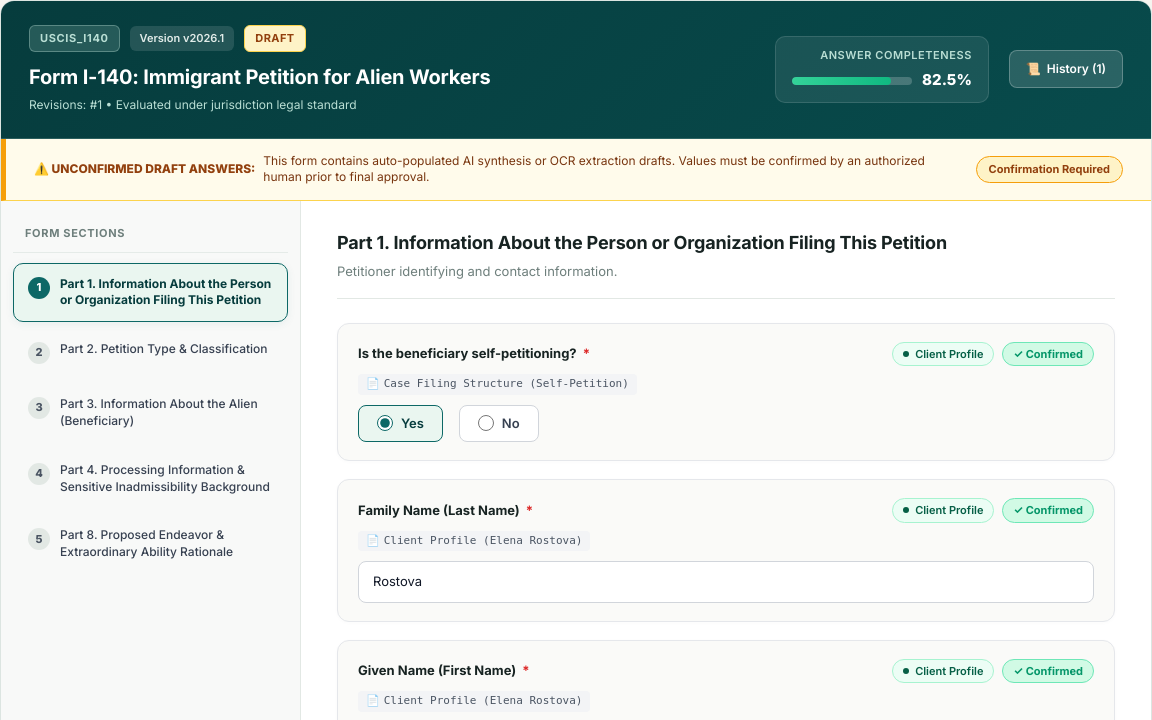
Phase 8 — Application Forms, Readiness Checks, and Package Builder › ConfigurableFormViewer Component › records revision history and opens history drawer
The width and height of the screenshot is (1152, 720).
Click the button "📜 History (1)". click: (1066, 69)
box: [1009, 50, 1123, 88]
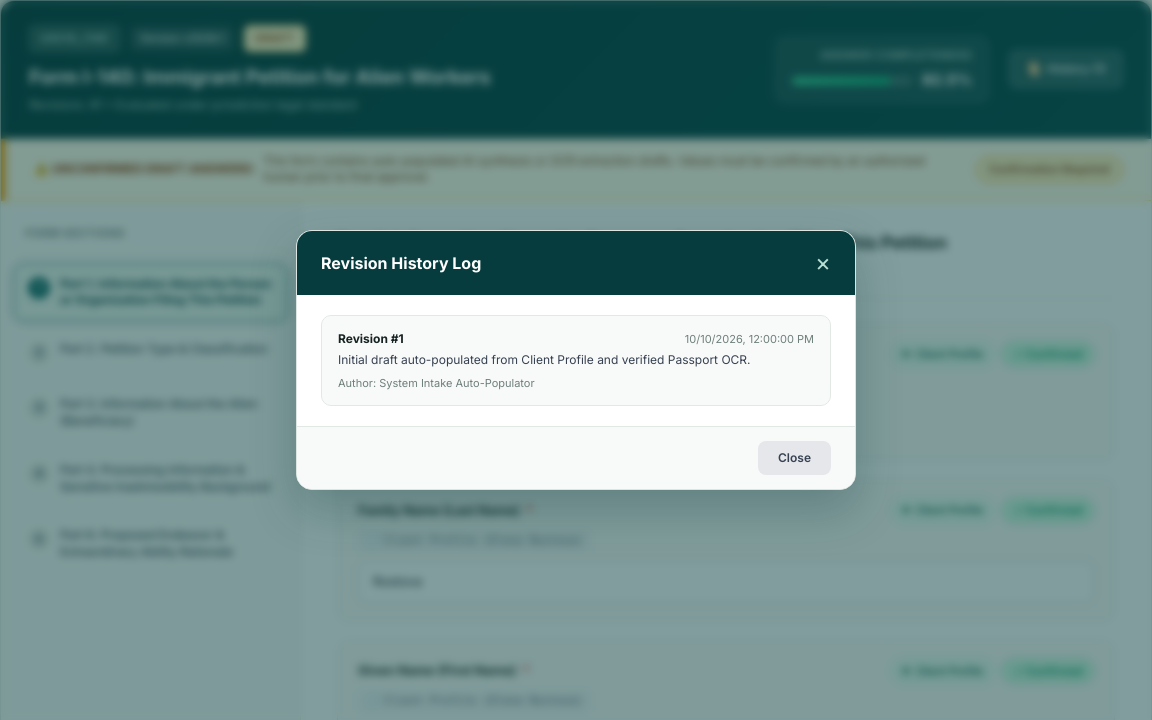
Now the heading "Revision History Log" is shown, box [321, 251, 481, 275]
Now the text "Revision #1" is shown, box [338, 330, 404, 348]
Now the text "Initial draft auto-populated from Client Profile" is shown, box [338, 352, 750, 367]
